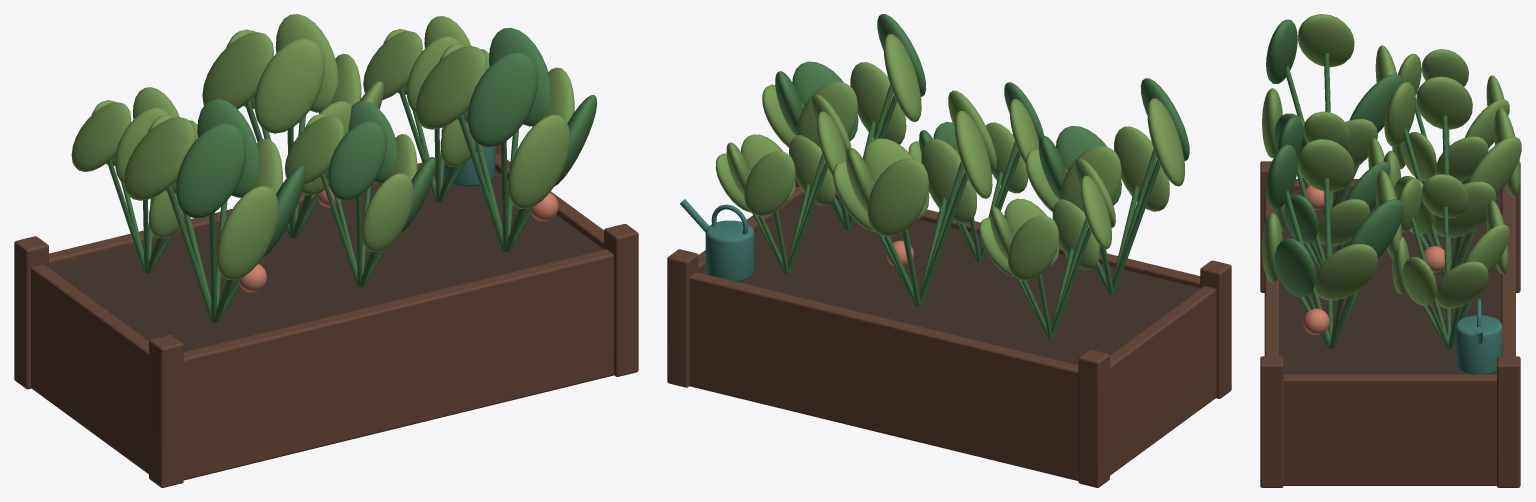
The model's file is garden_bed.glb.
3 renders of one model, left to right at view 1: azimuth 30°, elevation 25°; view 2: azimuth 150°, elevation 25°; view 3: azimuth 270°, elevation 25°, orthographic. The views are drawn at different scales.
Visible parts, largest first — view 1: Planter side.001, Bed soil, Planter end, Corner post.001, Satin leaf.019, Satin leaf.012, Satin leaf.040, Satin leaf.035, Satin leaf.007, Corner post.003, Satin leaf.037, Satin leaf.009 (+32 smaller); view 2: Planter side, Bed soil, Planter end, Corner post, Satin leaf.018, Corner post.002, Watering can, Satin leaf.007, Satin leaf.014, Satin leaf.032, Corner post.001, Satin leaf.004 (+36 smaller); view 3: Planter end.001, Bed soil, Corner post.002, Corner post.003, Satin leaf.041, Watering can, Satin leaf.016, Satin leaf.009, Satin leaf.037, Planter side, Satin leaf.038, Satin leaf.034 (+49 smaller).
Boxes of the visible parts, left/top/right/bottom form: Planter side.001: left=183, top=249, right=613, bottom=480; Bed soil: left=49, top=170, right=603, bottom=351; Planter end: left=31, top=264, right=148, bottom=474; Corner post.001: left=149, top=335, right=183, bottom=487; Satin leaf.019: left=254, top=38, right=324, bottom=133; Satin leaf.012: left=176, top=123, right=245, bottom=218; Satin leaf.040: left=467, top=52, right=537, bottom=147; Satin leaf.035: left=508, top=115, right=570, bottom=208; Satin leaf.007: left=216, top=186, right=278, bottom=280; Corner post.003: left=604, top=224, right=638, bottom=376; Satin leaf.037: left=415, top=46, right=486, bottom=129; Satin leaf.009: left=124, top=117, right=195, bottom=200; Planter side: left=689, top=272, right=1078, bottom=480; Bed soil: left=699, top=195, right=1200, bottom=364; Planter end: left=1110, top=286, right=1216, bottom=475; Corner post: left=1078, top=349, right=1109, bottom=487; Satin leaf.018: left=867, top=158, right=928, bottom=236; Corner post.002: left=667, top=249, right=698, bottom=387; Watering can: left=705, top=220, right=754, bottom=281; Satin leaf.007: left=1114, top=126, right=1169, bottom=211; Satin leaf.014: left=921, top=139, right=976, bottom=223; Satin leaf.032: left=744, top=151, right=795, bottom=216; Corner post.001: left=1200, top=260, right=1231, bottom=398; Satin leaf.004: left=1008, top=215, right=1058, bottom=280; Planter end.001: left=1284, top=374, right=1496, bottom=485; Bed soil: left=1279, top=190, right=1501, bottom=374; Corner post.002: left=1497, top=356, right=1520, bottom=487; Corner post.003: left=1260, top=356, right=1283, bottom=487; Satin leaf.041: left=1314, top=244, right=1377, bottom=300; Watering can: left=1455, top=315, right=1502, bottom=374; Satin leaf.016: left=1416, top=76, right=1472, bottom=129; Satin leaf.009: left=1298, top=14, right=1354, bottom=67; Satin leaf.037: left=1298, top=139, right=1354, bottom=192; Planter side: left=1501, top=186, right=1515, bottom=356; Satin leaf.038: left=1274, top=238, right=1315, bottom=296; Satin leaf.034: left=1435, top=261, right=1488, bottom=308.
Bounding box in the file's own units: 1.67 × 1.1 × 0.8844.
